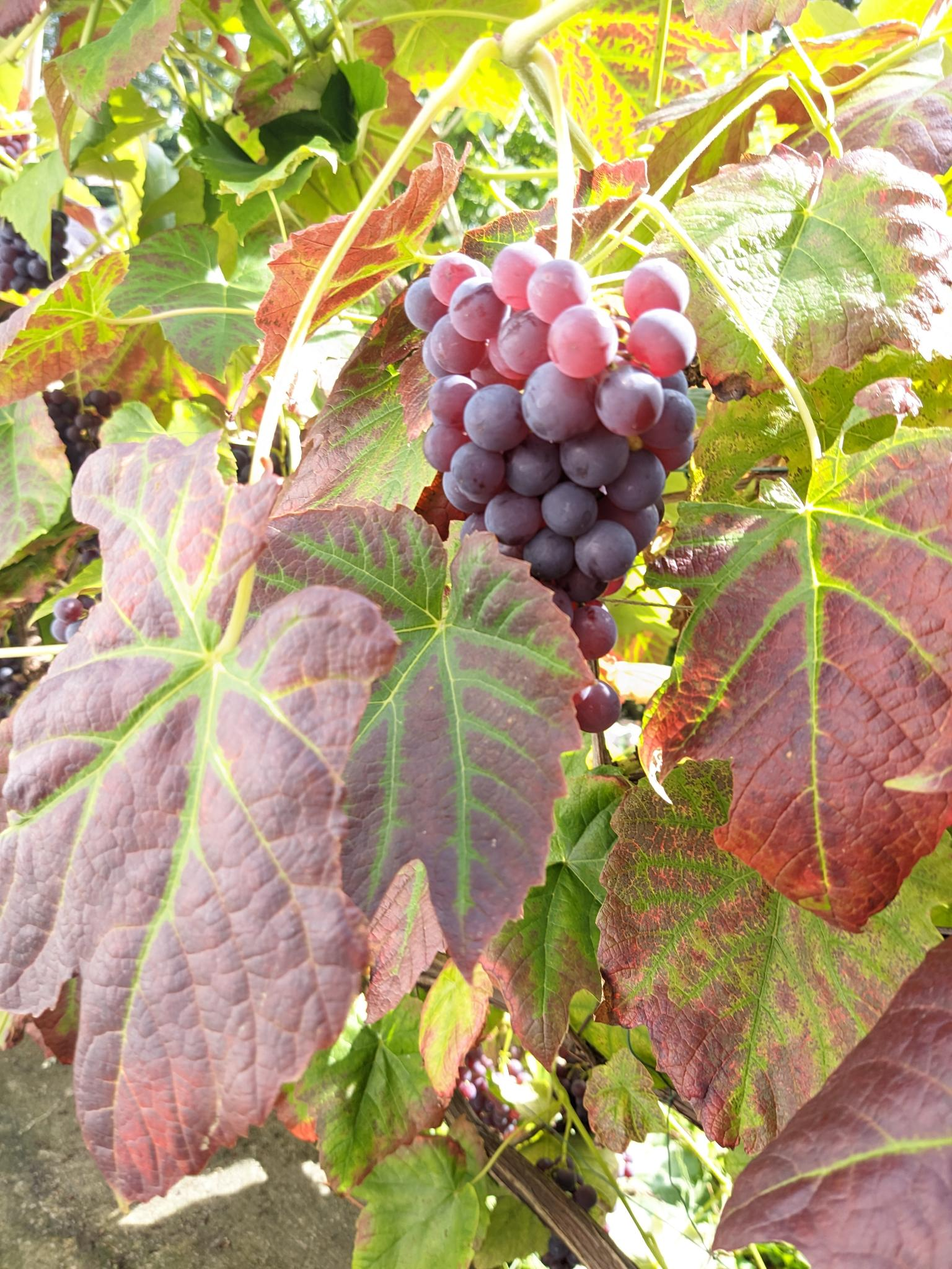Grape Ripe: (408, 242, 696, 661), (450, 1038, 595, 1269), (42, 388, 126, 467), (0, 210, 69, 294)
